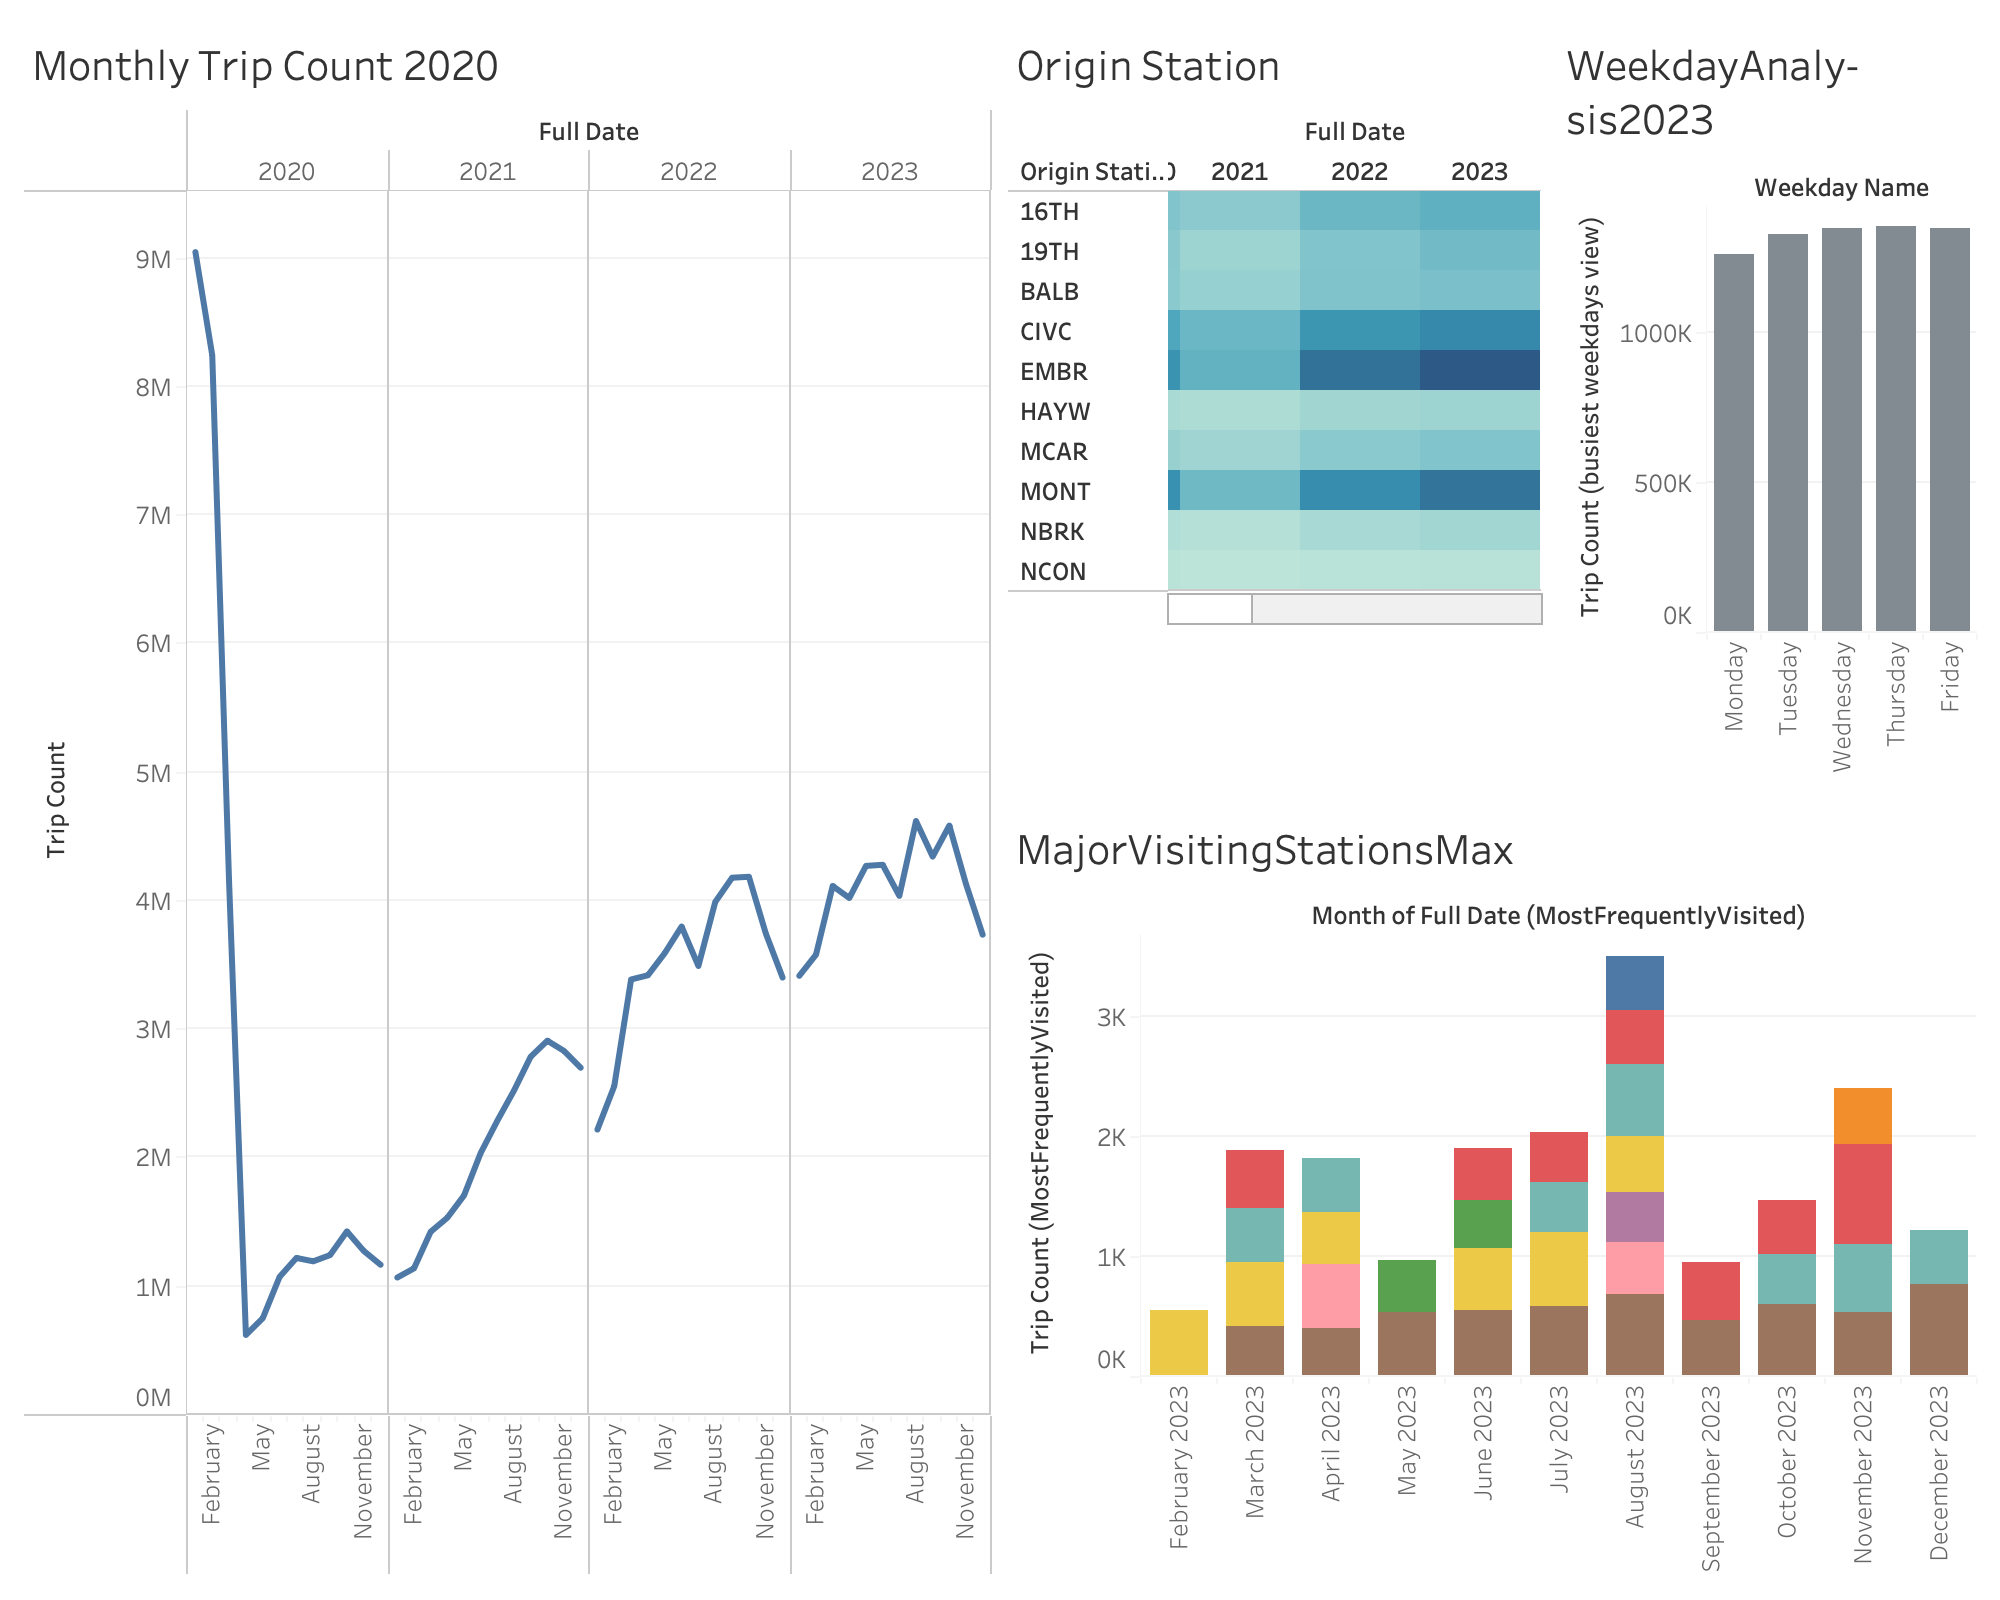

This screenshot's page, from the dashboard's own definition file:
{"tool":"tableau","page":{"name":"Dashboard 2023","canvas":[1000,800],"ordinal":0},"visuals":[{"type":"worksheet","title":"Time-BART","mark":"Automatic","rows":["Trip_Count"],"cols":["Full_Date","Full_Date"],"box":[8,8,476,784]},{"type":"worksheet","title":"Origin Station","mark":"Automatic","rows":["Origin_Station"],"cols":["Full_Date","Full_Date"],"box":[484,8,476,392]},{"type":"legend","title":"Origin Station","param":"[federated.0tzfkk80lkfs8d19st8fl17al5fe].[sum:Trip_Count:qk]","box":[960,8,32,65]},{"type":"legend","title":"MajorVisitingStationsMax","param":"[federated.0tzfkk80lkfs8d19st8fl17al5fe].[none:Destination_Station (MostFrequent","box":[960,73,32,206]},{"type":"worksheet","title":"MajorVisitingStationsMax","mark":"Bar","rows":["Trip_Count (MostFrequentlyVisited)"],"cols":["Full_Date (MostFrequentlyVisited)"],"box":[484,400,286,392]},{"type":"worksheet","title":"WeekdayAnalysis2023","mark":"Automatic","rows":["Trip_Count (busiest_weekdays_view)"],"cols":["Weekday_Name"],"box":[770,400,190,392]}]}

Visuals, with their boxes in screenshot pixels (x1, y1, x2, y2), scaled from the page's 1000x800 canvas onto the 2000x1600 screenshot:
"Time-BART" worksheet: [left=16, top=16, right=968, bottom=1584]
"Origin Station" worksheet: [left=968, top=16, right=1920, bottom=800]
"Origin Station" legend: [left=1920, top=16, right=1984, bottom=146]
"MajorVisitingStationsMax" legend: [left=1920, top=146, right=1984, bottom=558]
"MajorVisitingStationsMax" worksheet (Bar marks): [left=968, top=800, right=1540, bottom=1584]
"WeekdayAnalysis2023" worksheet: [left=1540, top=800, right=1920, bottom=1584]
